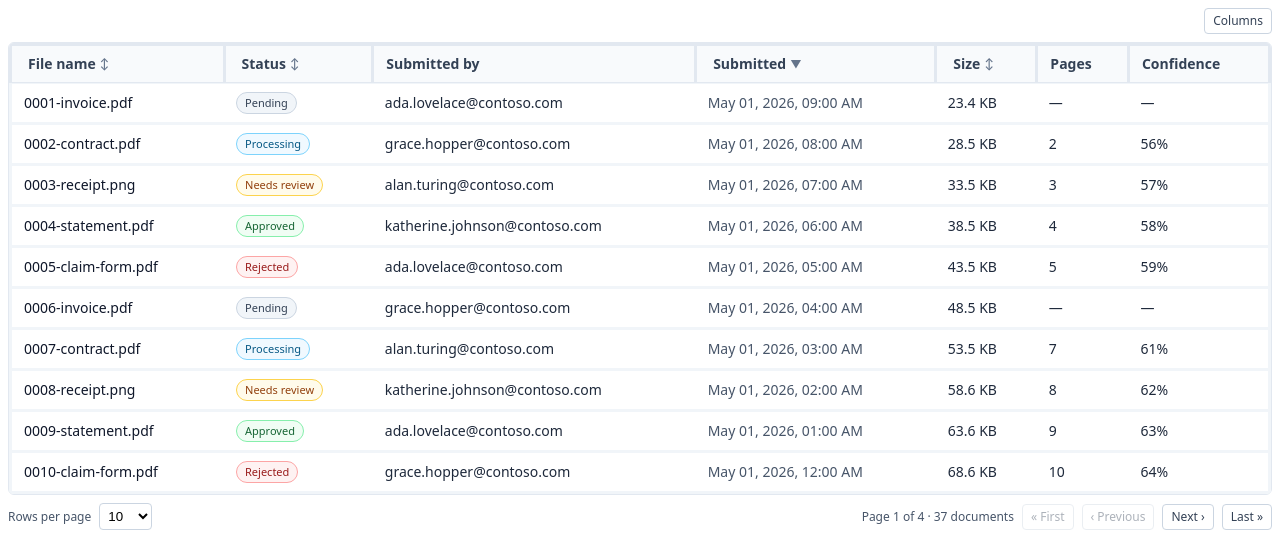
Test: DocumentIntakeGrid (bound to the generated hook) › refetches when the user pages forward
The width and height of the screenshot is (1280, 547).
Click the button "Next ›". click: (1188, 516)
box: [1162,504,1214,530]
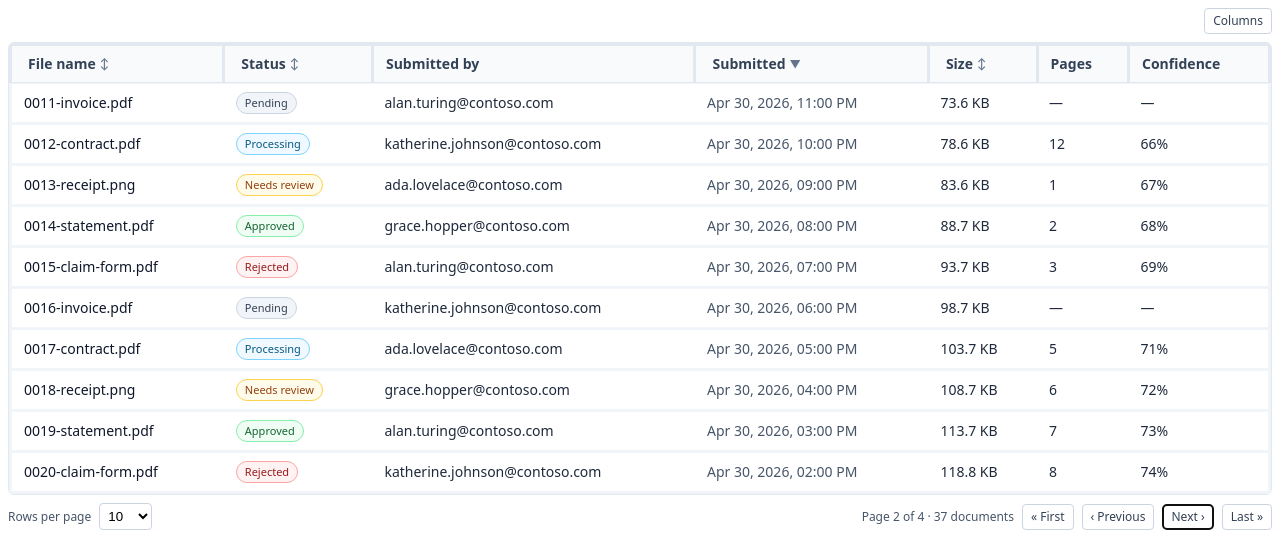
Result: the text "Page 2 of 4 · 37 documents" is shown at [862,508,1014,524]
